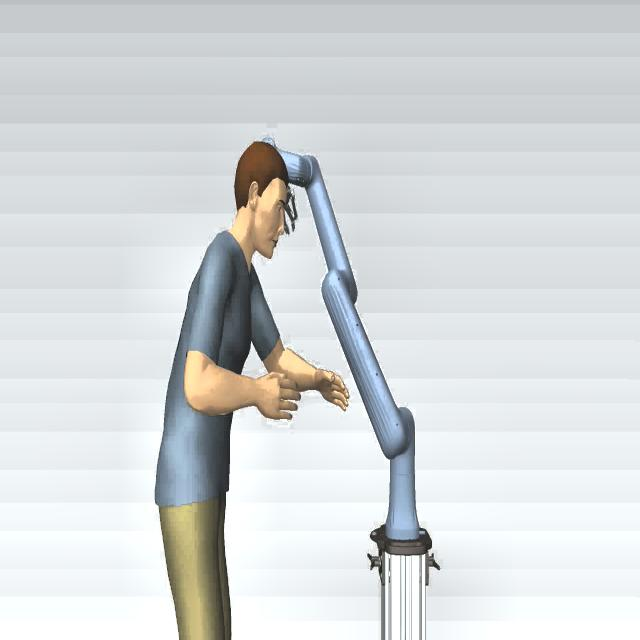robot: (259, 134, 429, 554)
